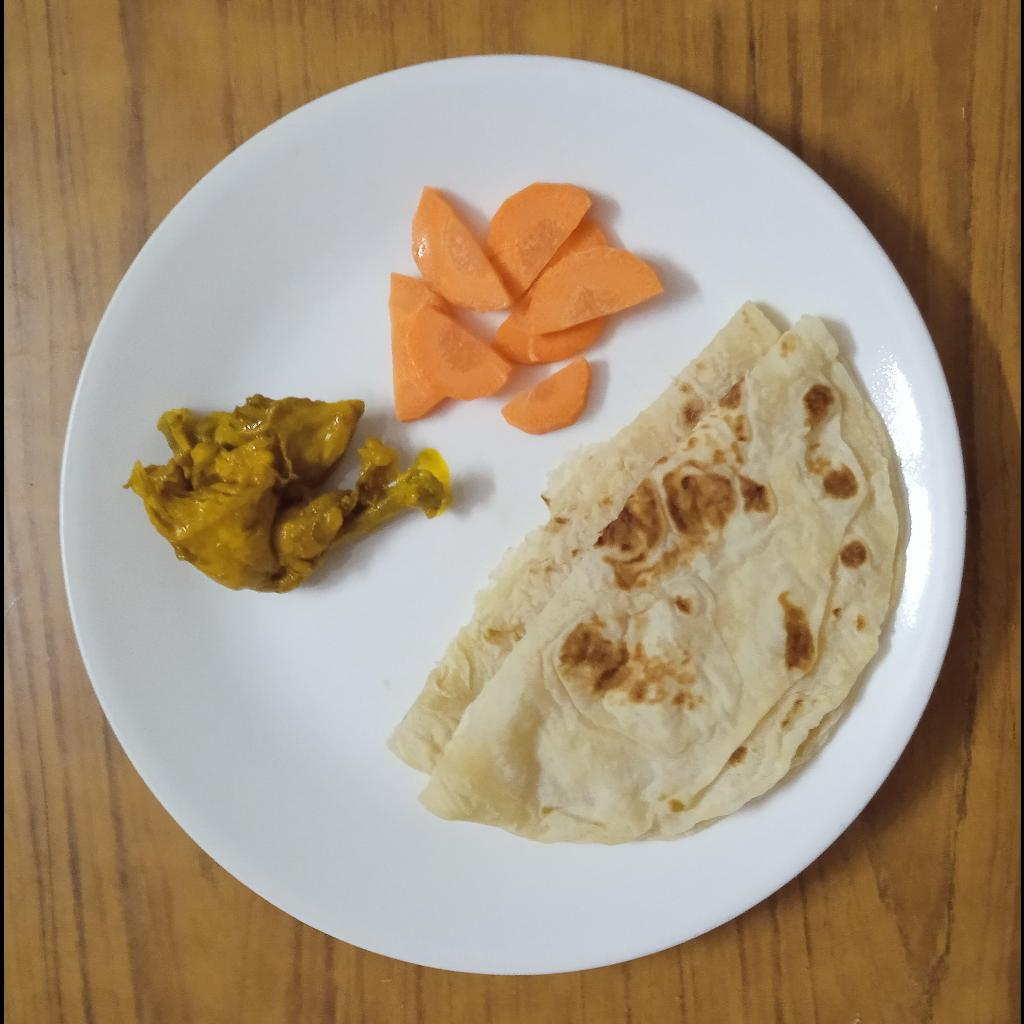carrot: (389, 181, 665, 422), (500, 356, 592, 437)
chicken: (125, 393, 444, 594)
ruti: (382, 302, 905, 844)
